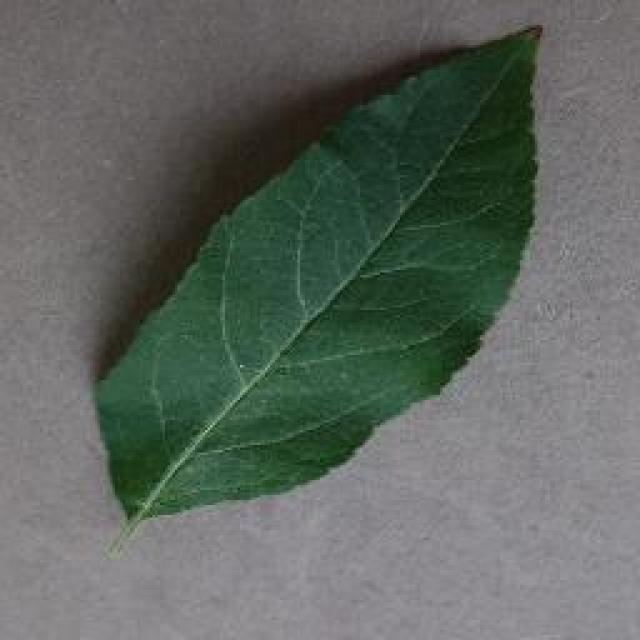apple healthy: (87, 20, 545, 552)
